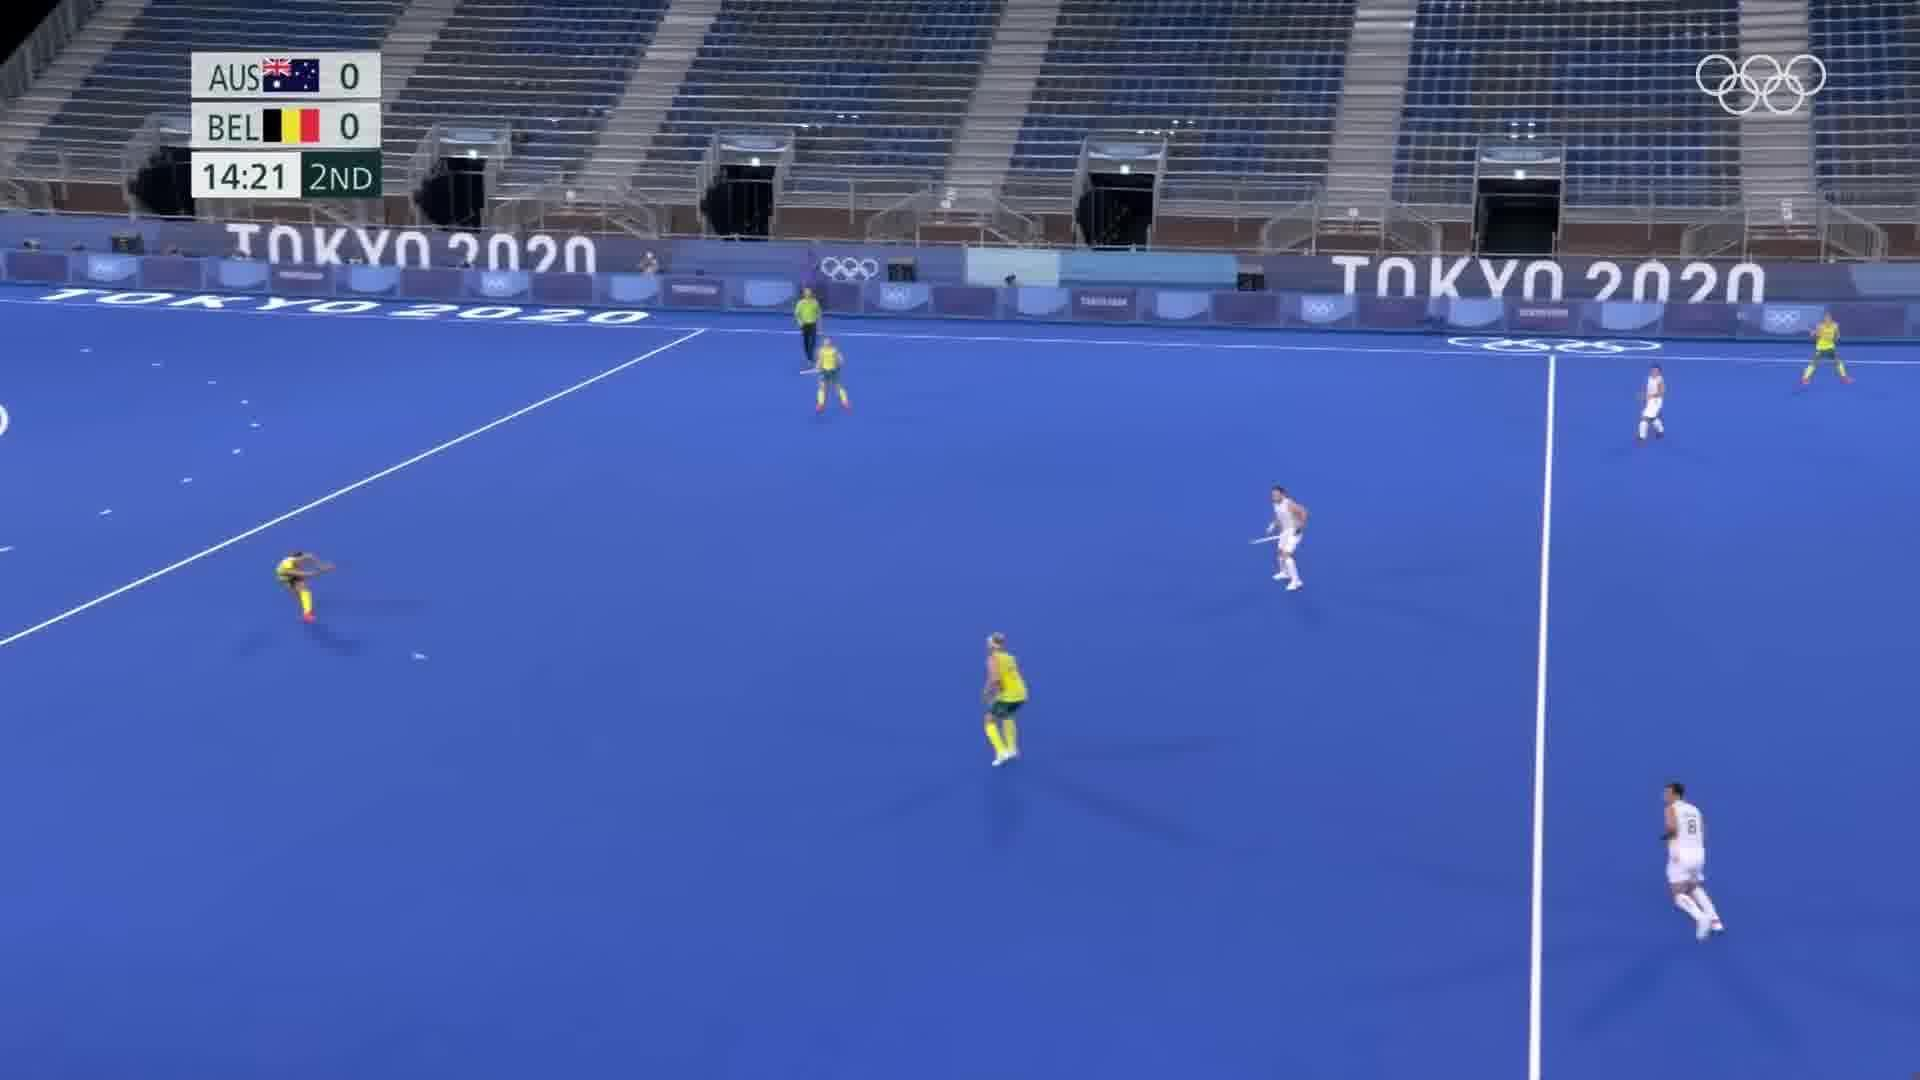ball: (400, 640, 440, 670)
